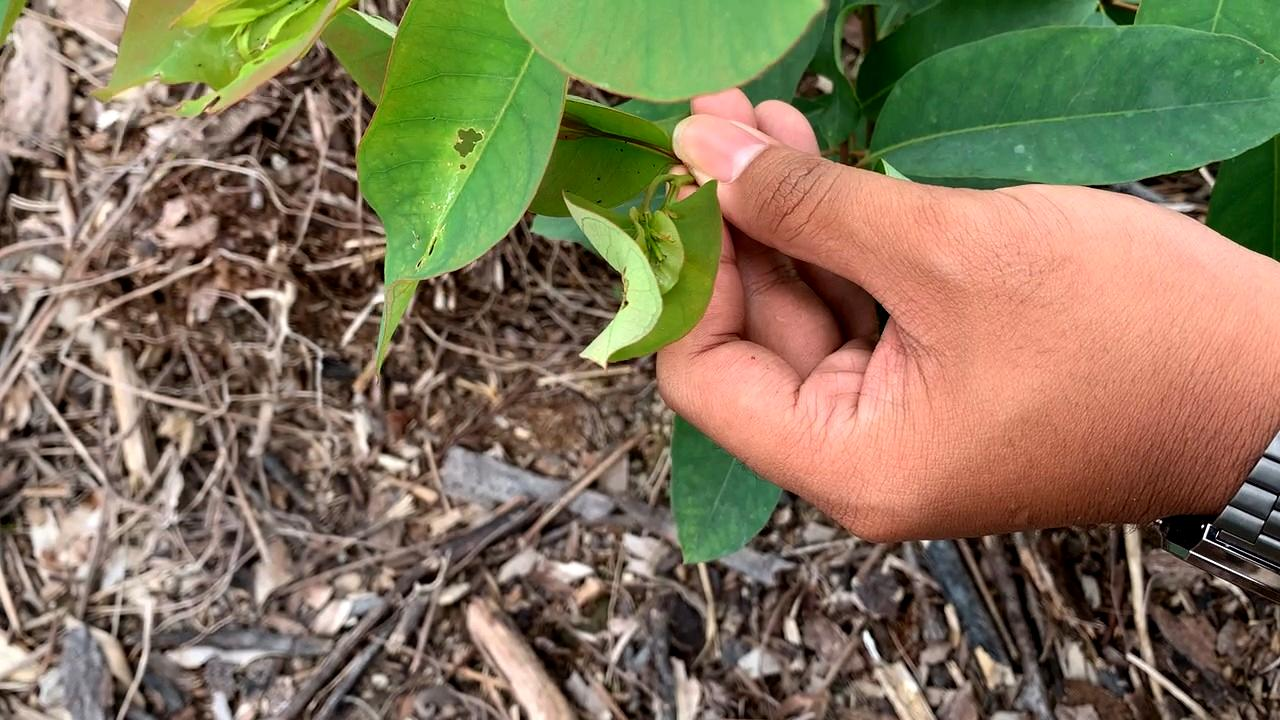Leaf Roller - Leaf: (628, 198, 689, 300)
